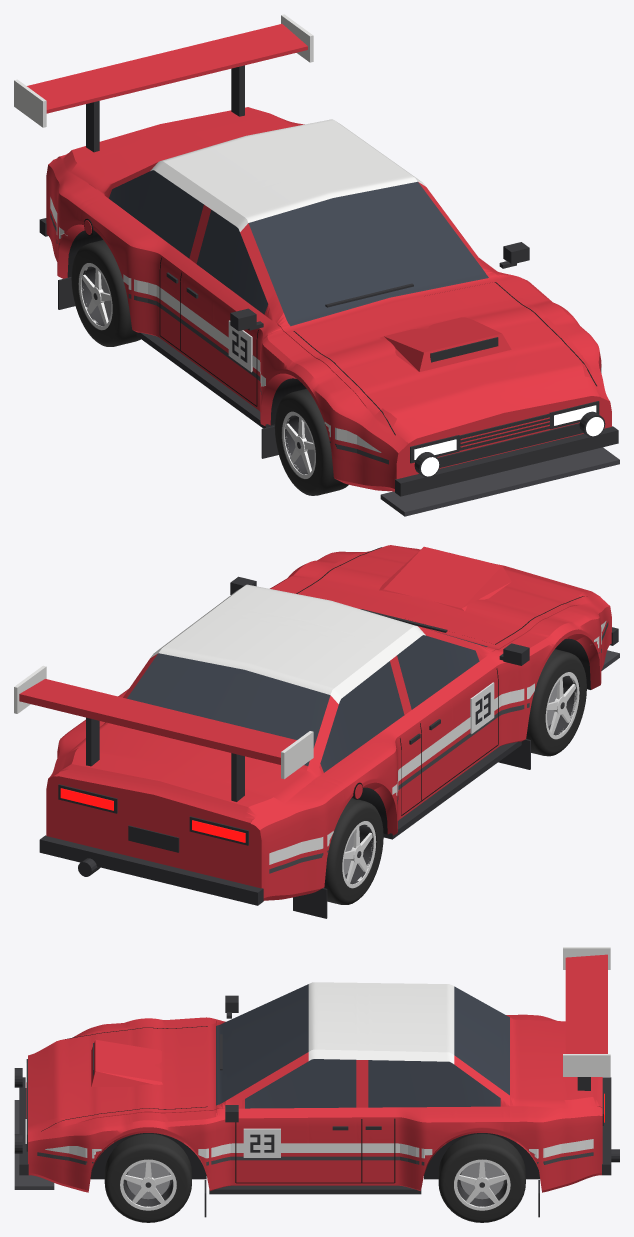
The model's file is 90s-awd-sedan.glb.
The picture shows the model from 3 angles, top to bottom: view 1: azimuth 30°, elevation 25°; view 2: azimuth 150°, elevation 25°; view 3: azimuth 270°, elevation 25°; orthographic projection. The views are drawn at different scales.
Parts seen in each view (by area): view 1: Body, Wheel_FR, Wheel_RR; view 2: Body, Wheel_FR, Wheel_RR; view 3: Body, Wheel_FL, Wheel_RL.
Boxes of the visible parts, bbox=[...] form: Body: bbox=[14, 14, 619, 516]; Wheel_FR: bbox=[274, 388, 348, 495]; Wheel_RR: bbox=[71, 240, 140, 346]; Body: bbox=[14, 545, 619, 918]; Wheel_FR: bbox=[526, 649, 586, 756]; Wheel_RR: bbox=[324, 798, 383, 904]; Body: bbox=[14, 947, 619, 1217]; Wheel_FL: bbox=[104, 1133, 191, 1222]; Wheel_RL: bbox=[438, 1133, 525, 1222].
Size of the model in its own units: 2.08 by 1.42 by 4.58.
